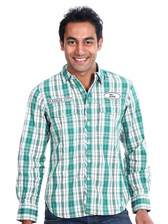clothoes: (16, 65, 162, 217)
